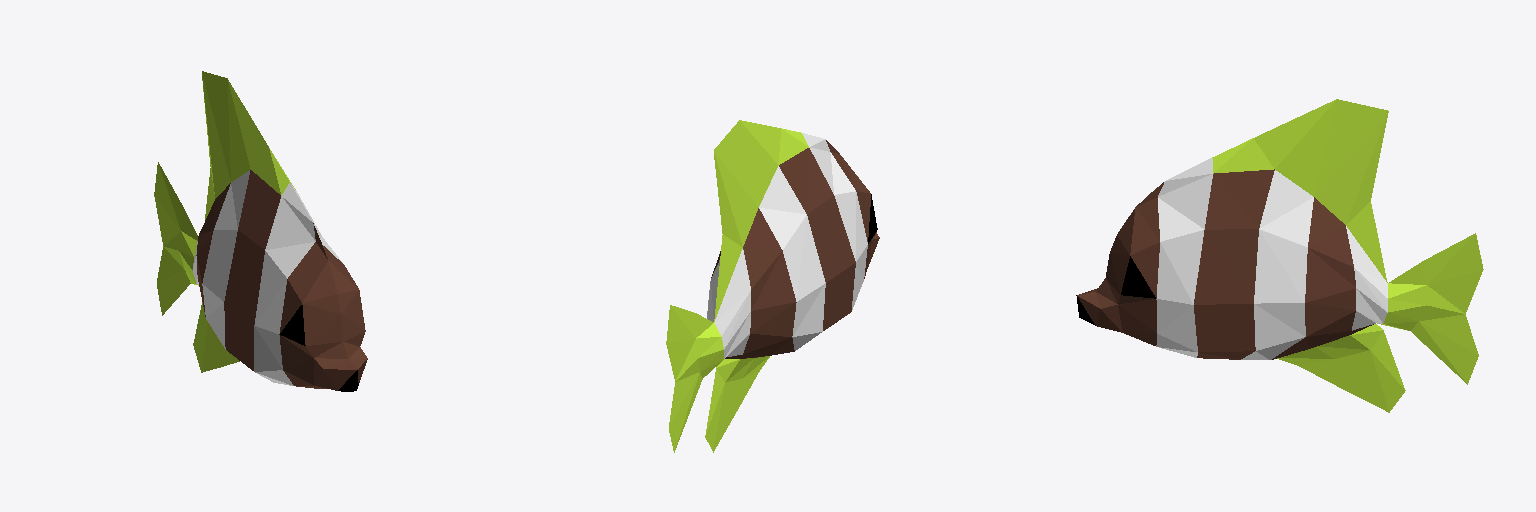
The model's file is fishA_colorMap.obj.
The picture shows the model from 3 angles: view 1: azimuth 30°, elevation 25°; view 2: azimuth 150°, elevation 25°; view 3: azimuth 270°, elevation 25°; orthographic projection.
Size of the model in its own units: 40.12 by 134 by 158.